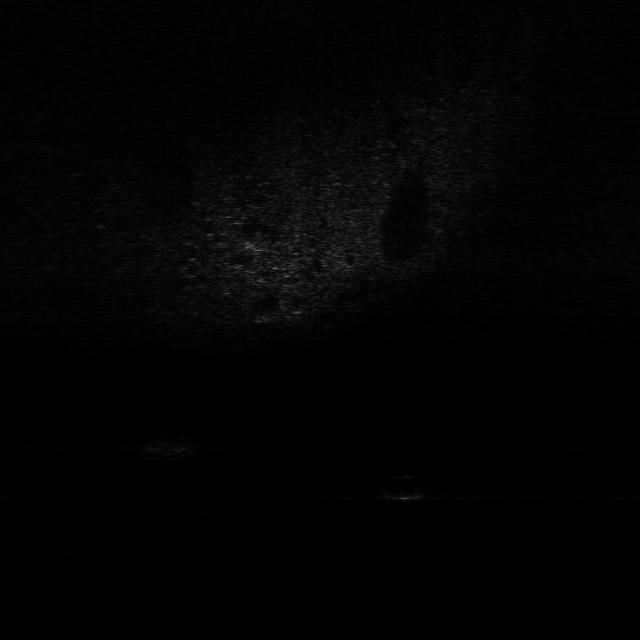ball: (383, 470, 431, 502)
circle cage: (133, 425, 207, 464)
